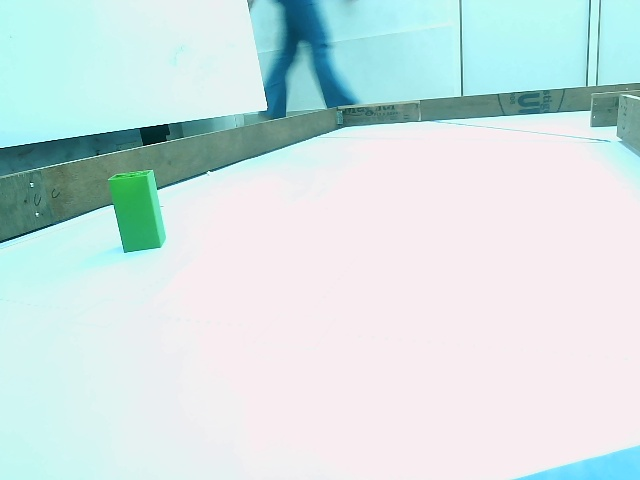green: (107, 172, 166, 251)
